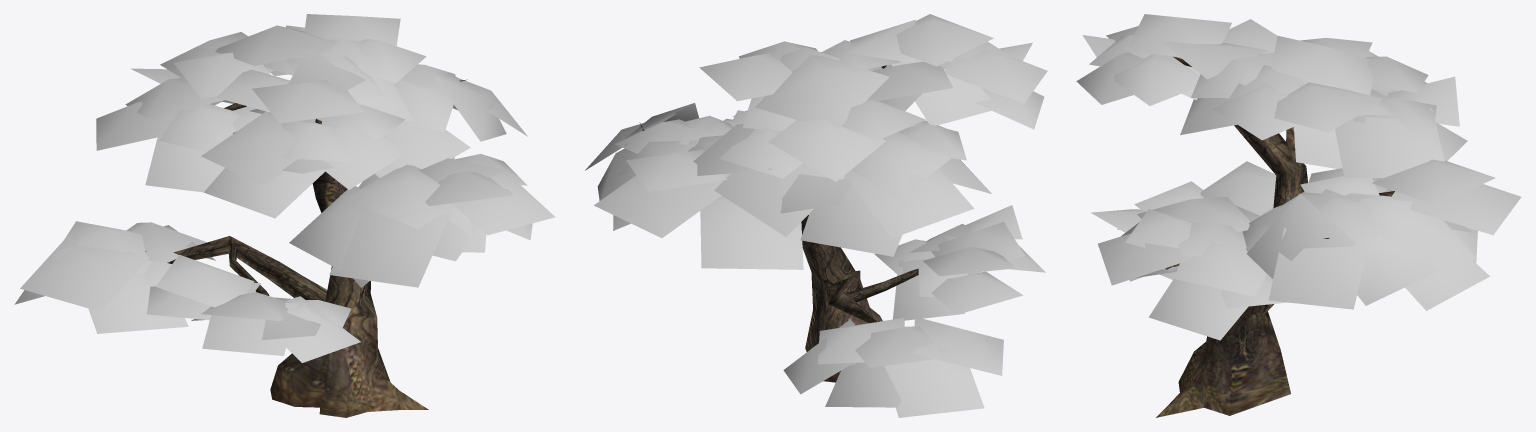
Rendered from GYMS00047_07.FBX.
3 renders of one model, left to right at view 1: azimuth 30°, elevation 25°; view 2: azimuth 150°, elevation 25°; view 3: azimuth 270°, elevation 25°, orthographic. The views are drawn at different scales.
Parts seen in each view (by area): view 1: MS00047_07; view 2: MS00047_07; view 3: MS00047_07.
Part boxes in pixels (x1,y1,x2,y2): MS00047_07: [14, 14, 555, 417]; MS00047_07: [585, 14, 1047, 417]; MS00047_07: [1076, 14, 1521, 417].
Bounding box in the file's own units: 12 × 8.76 × 10.19.
